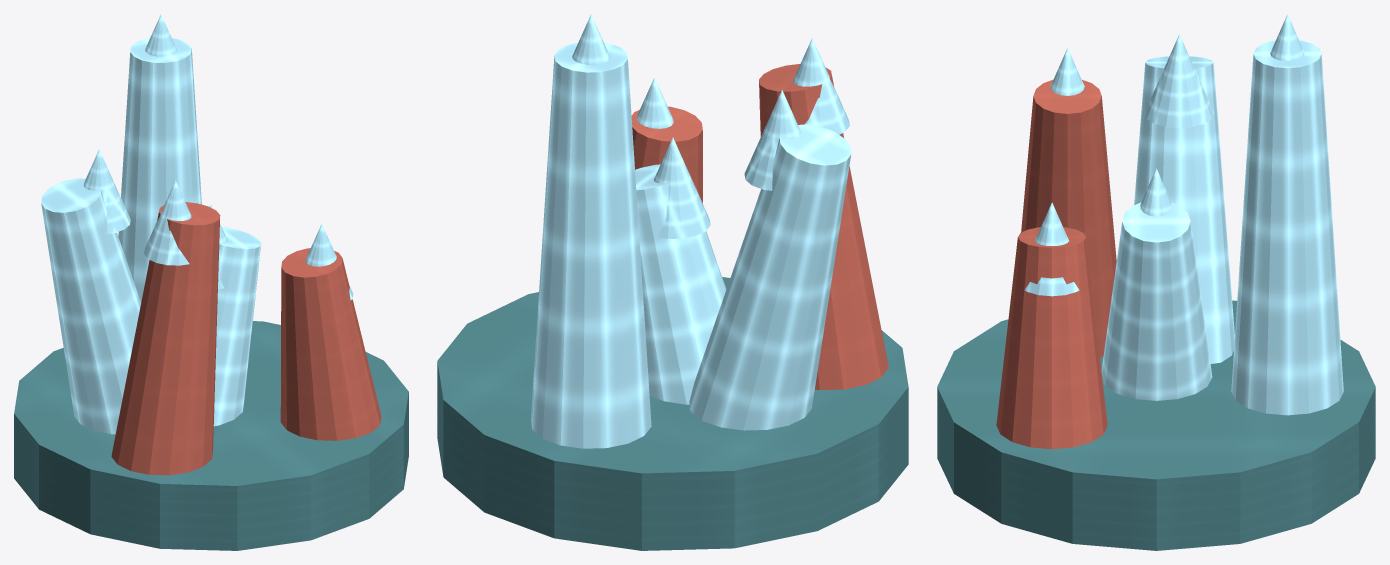
File: atlas100-s071-a04.glb
3 renders of one model, left to right at view 1: azimuth 30°, elevation 25°; view 2: azimuth 150°, elevation 25°; view 3: azimuth 270°, elevation 25°, orthographic. The views are drawn at different scales.
Parts seen in each view (by area): view 1: atlas100-s071-a04:part-000, atlas100-s071-a04:part-003, atlas100-s071-a04:part-009, atlas100-s071-a04:part-007, atlas100-s071-a04:part-005, atlas100-s071-a04:part-001, atlas100-s071-a04:part-004, atlas100-s071-a04:part-010, atlas100-s071-a04:part-008, atlas100-s071-a04:part-006; view 2: atlas100-s071-a04:part-000, atlas100-s071-a04:part-005, atlas100-s071-a04:part-009, atlas100-s071-a04:part-001, atlas100-s071-a04:part-003, atlas100-s071-a04:part-007, atlas100-s071-a04:part-002, atlas100-s071-a04:part-004, atlas100-s071-a04:part-010, atlas100-s071-a04:part-008, atlas100-s071-a04:part-006; view 3: atlas100-s071-a04:part-000, atlas100-s071-a04:part-005, atlas100-s071-a04:part-007, atlas100-s071-a04:part-001, atlas100-s071-a04:part-003, atlas100-s071-a04:part-009, atlas100-s071-a04:part-010, atlas100-s071-a04:part-008, atlas100-s071-a04:part-004, atlas100-s071-a04:part-002, atlas100-s071-a04:part-006.
Boxes of the visible parts, x1,y1,x2,y2 form: atlas100-s071-a04:part-000: (14,321,408,550); atlas100-s071-a04:part-003: (111,202,220,475); atlas100-s071-a04:part-009: (41,178,140,434); atlas100-s071-a04:part-007: (280,248,381,440); atlas100-s071-a04:part-005: (118,38,201,302); atlas100-s071-a04:part-001: (213,227,261,426); atlas100-s071-a04:part-004: (144,180,191,265); atlas100-s071-a04:part-010: (83,149,130,233); atlas100-s071-a04:part-008: (305,223,353,300); atlas100-s071-a04:part-006: (145,14,176,56); atlas100-s071-a04:part-000: (437,277,908,550); atlas100-s071-a04:part-005: (530,42,651,448); atlas100-s071-a04:part-009: (689,124,851,430); atlas100-s071-a04:part-001: (635,164,726,404); atlas100-s071-a04:part-003: (759,64,888,390); atlas100-s071-a04:part-007: (631,106,702,203); atlas100-s071-a04:part-002: (654,137,710,238); atlas100-s071-a04:part-004: (793,38,849,134); atlas100-s071-a04:part-010: (744,90,800,190); atlas100-s071-a04:part-008: (636,77,673,128); atlas100-s071-a04:part-006: (572,14,609,64); atlas100-s071-a04:part-000: (937,300,1375,550); atlas100-s071-a04:part-005: (1231,40,1343,415); atlas100-s071-a04:part-007: (996,227,1107,449); atlas100-s071-a04:part-001: (1101,202,1212,400); atlas100-s071-a04:part-003: (1021,80,1116,357); atlas100-s071-a04:part-009: (1134,56,1234,363); atlas100-s071-a04:part-010: (1144,34,1214,128); atlas100-s071-a04:part-008: (1025,202,1079,296); atlas100-s071-a04:part-004: (1050,48,1084,95); atlas100-s071-a04:part-002: (1140,168,1172,216); atlas100-s071-a04:part-006: (1270,14,1304,60).
Size of the model in its own units: 1.07 by 1.21 by 1.07.
3 materials, 3 textured.
